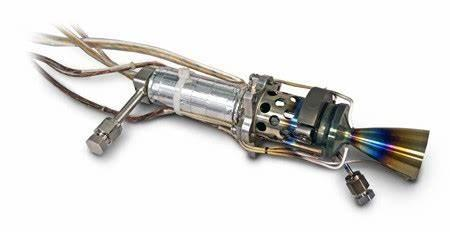thruster: (349, 124, 434, 184)
